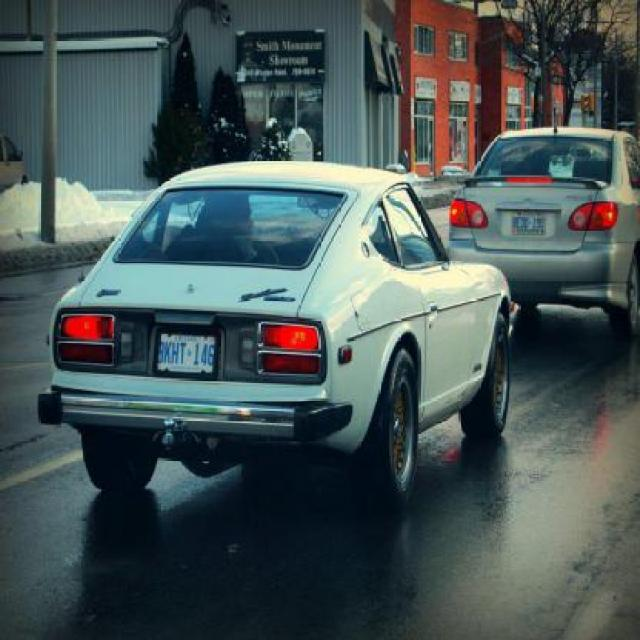License-Plates: (156, 332, 216, 373), (511, 216, 546, 236)
